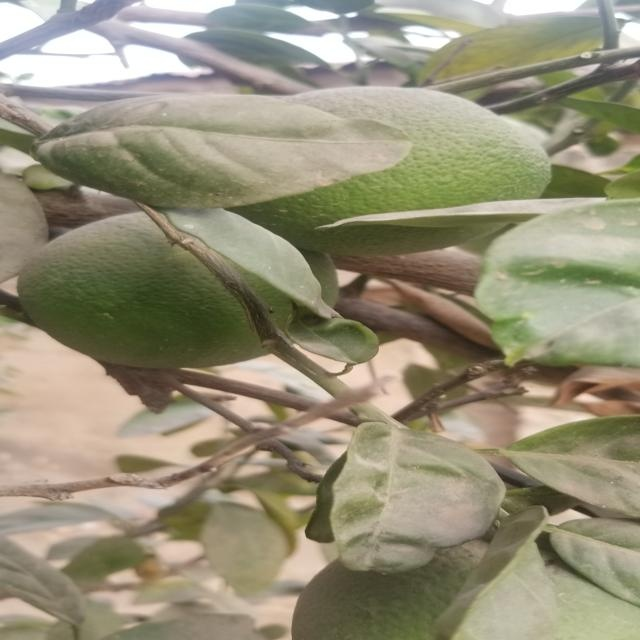agrume: (231, 84, 561, 253), (26, 214, 307, 370)
